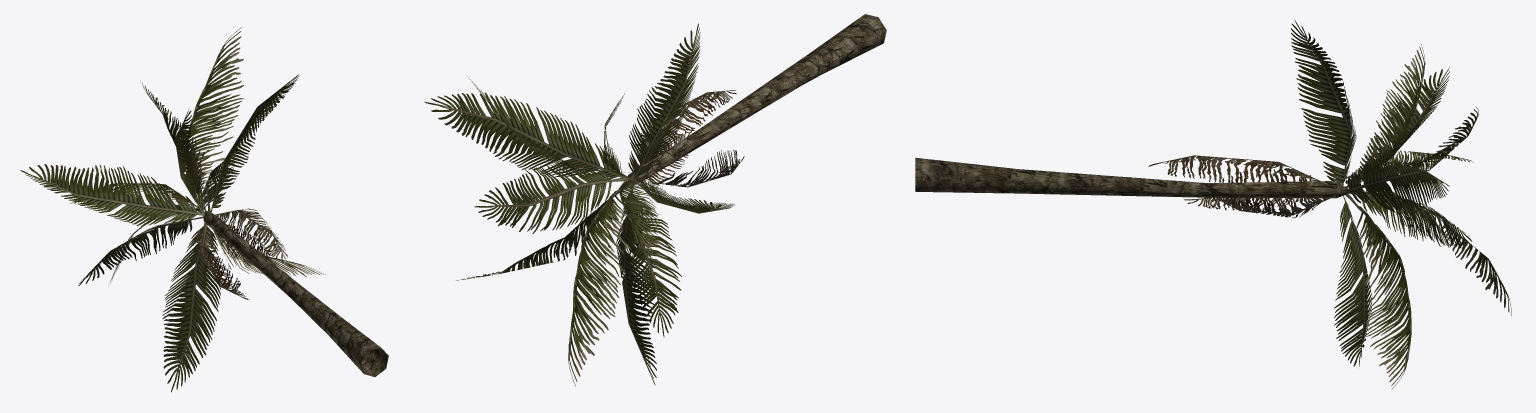
Rendered from MEP_Palm_02_02.fbx.
3 views of the same model, side by side, from view 1: azimuth 30°, elevation 25°; view 2: azimuth 150°, elevation 25°; view 3: azimuth 270°, elevation 25° (orthographic). The views are drawn at different scales.
Parts seen in each view (by area): view 1: MEP_Palm_Leafs_02, Palm_Trunk_02; view 2: MEP_Palm_Leafs_02, Palm_Trunk_02; view 3: MEP_Palm_Leafs_02, Palm_Trunk_02.
Part boxes in pixels (bbox=[...]): MEP_Palm_Leafs_02: bbox=[20, 27, 325, 392]; Palm_Trunk_02: bbox=[203, 211, 388, 376]; MEP_Palm_Leafs_02: bbox=[424, 23, 744, 386]; Palm_Trunk_02: bbox=[627, 14, 886, 183]; MEP_Palm_Leafs_02: bbox=[1148, 19, 1511, 388]; Palm_Trunk_02: bbox=[915, 157, 1350, 198].
Bounding box in the file's own units: 7.17 × 7.42 × 11.48.
